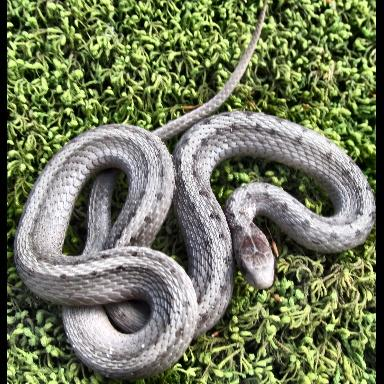snake: (14, 110, 376, 383)
